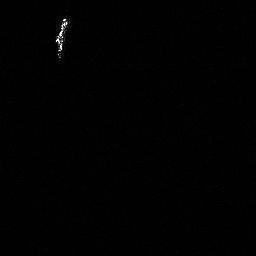ship: (51, 17, 70, 63)
